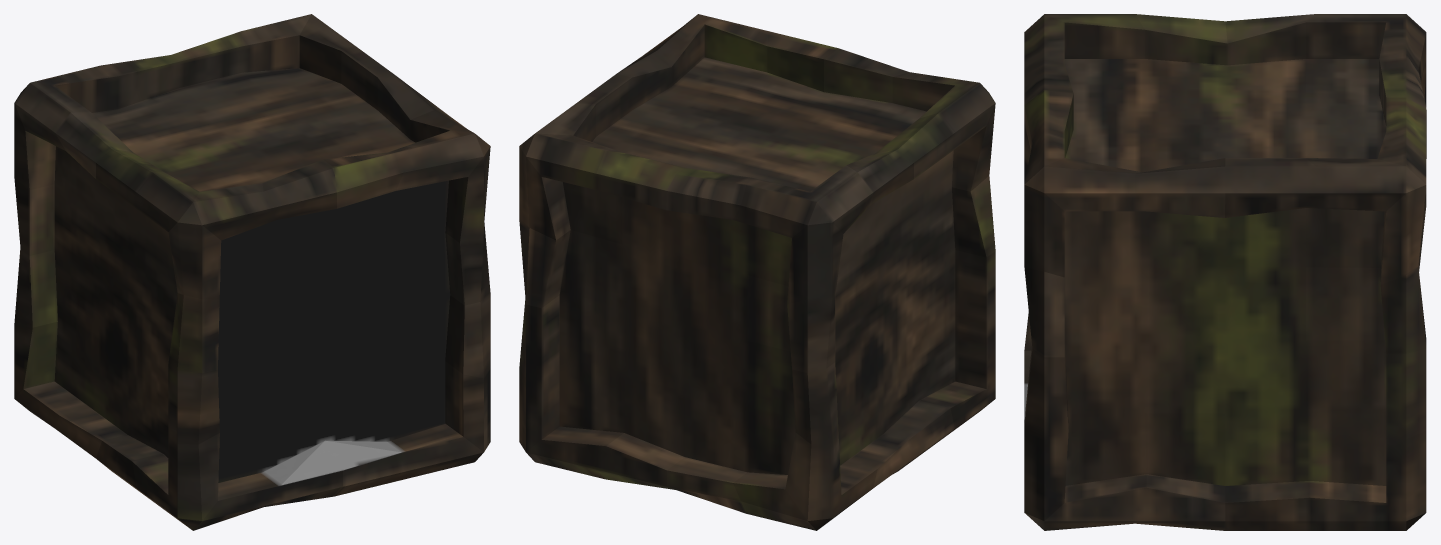
The model's file is Swamp Wood Drawer.fbx.
3 renders of one model, left to right at view 1: azimuth 30°, elevation 25°; view 2: azimuth 150°, elevation 25°; view 3: azimuth 270°, elevation 25°, orthographic. The views are drawn at different scales.
Visible parts, largest first — view 1: Cube; view 2: Cube; view 3: Cube.
Part boxes in pixels (x1,y1,x2,y2): Cube: (14,14,490,530); Cube: (519,14,995,530); Cube: (1024,14,1426,530).
Bounding box in the file's own units: 100 × 100 × 100.
Materials: 1 (1 with a texture image).
